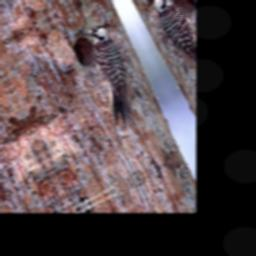Woodpecker: (72, 20, 150, 128)
